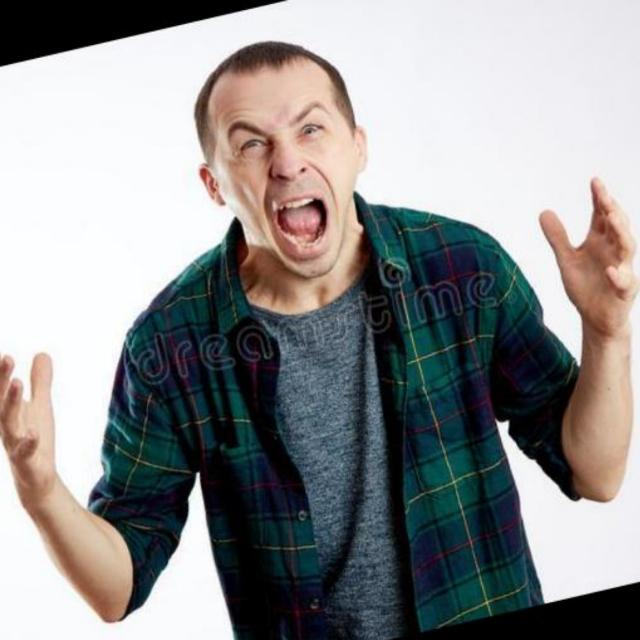Angry: (133, 59, 412, 276)
